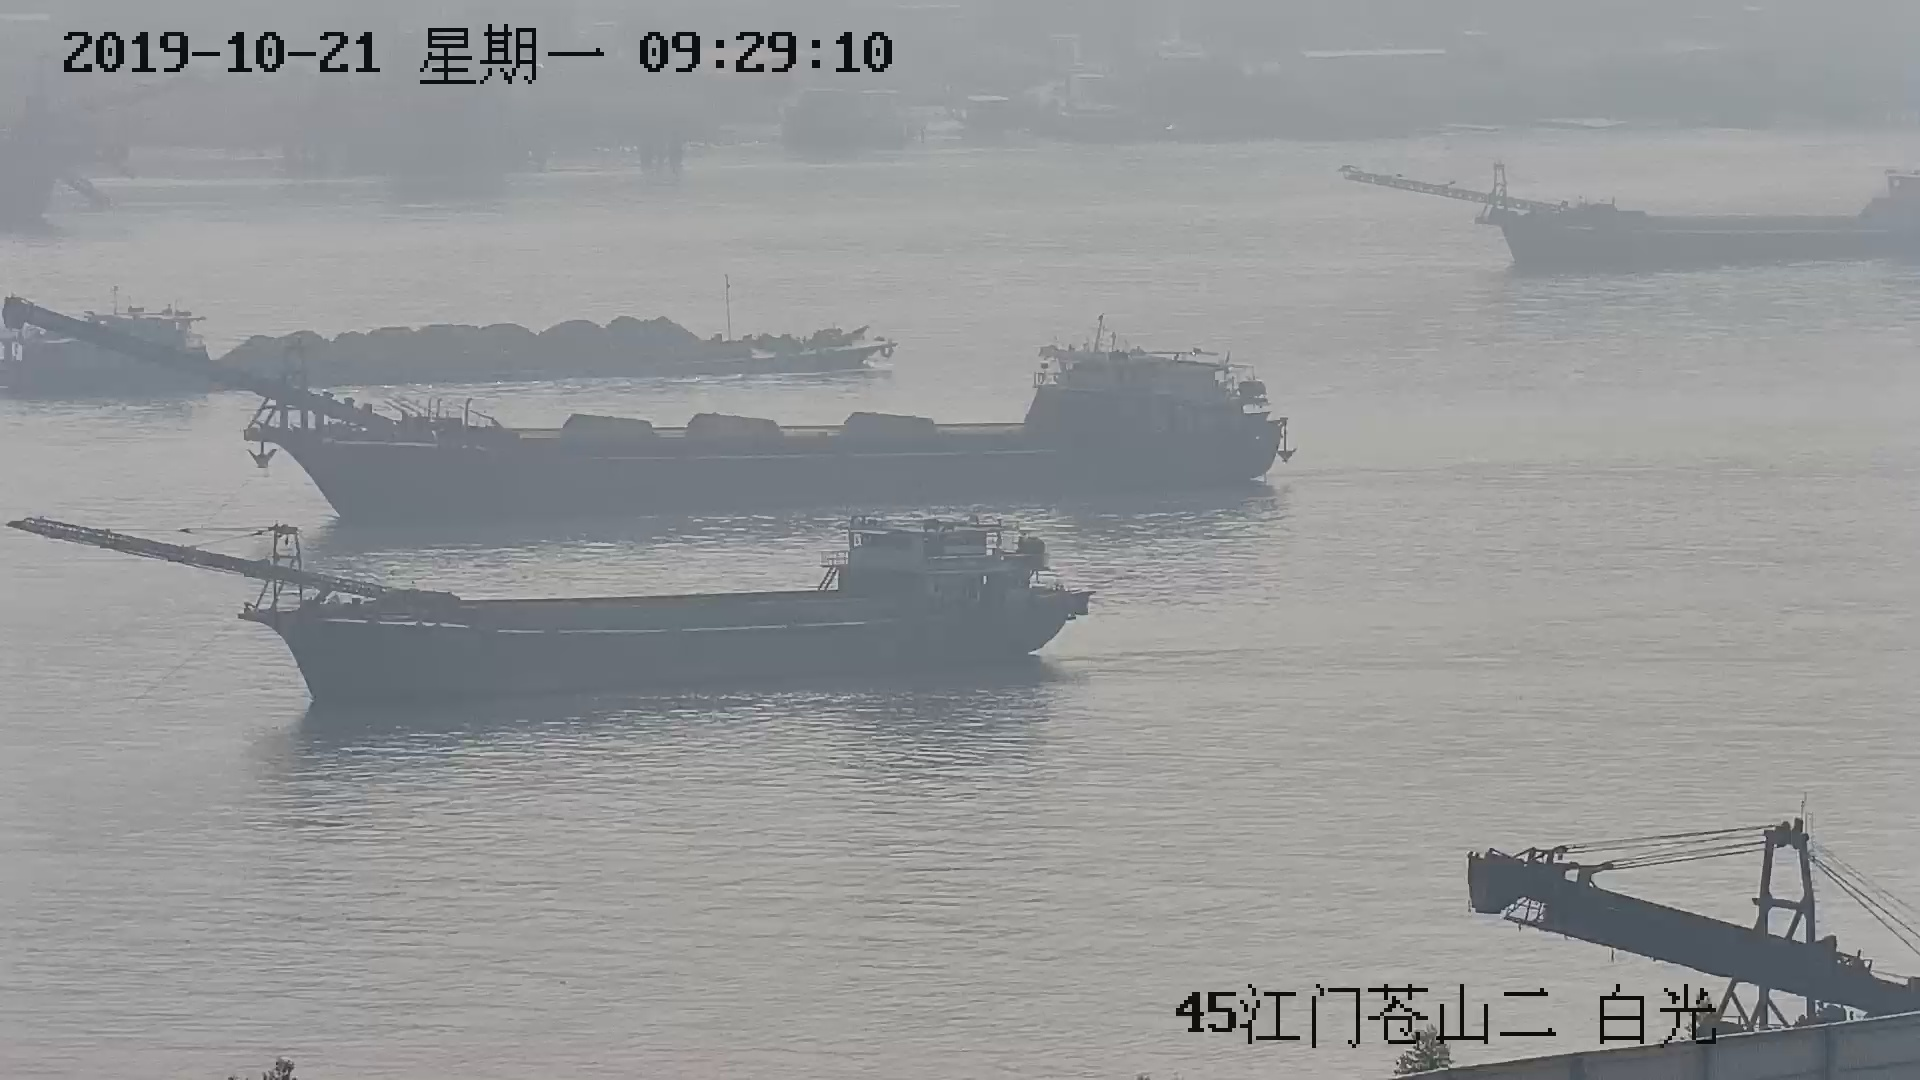ship: (15, 522, 1095, 704), (255, 340, 1288, 516), (1, 295, 899, 400), (1336, 156, 1920, 287)
